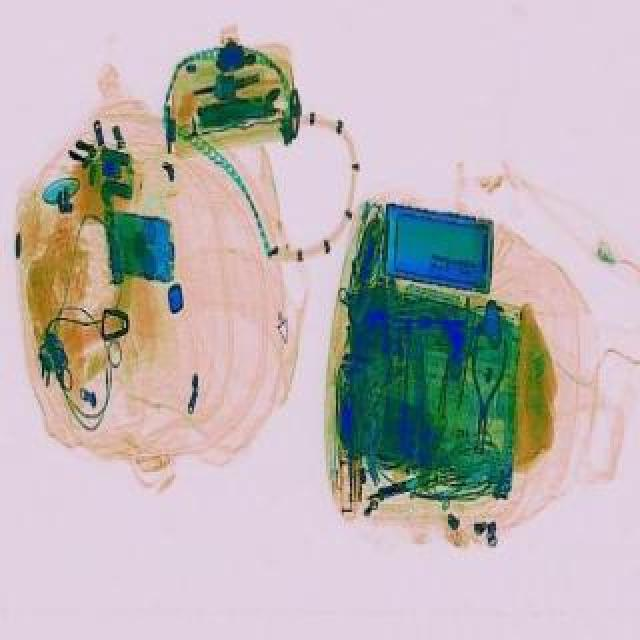wrench: (462, 334, 512, 462)
